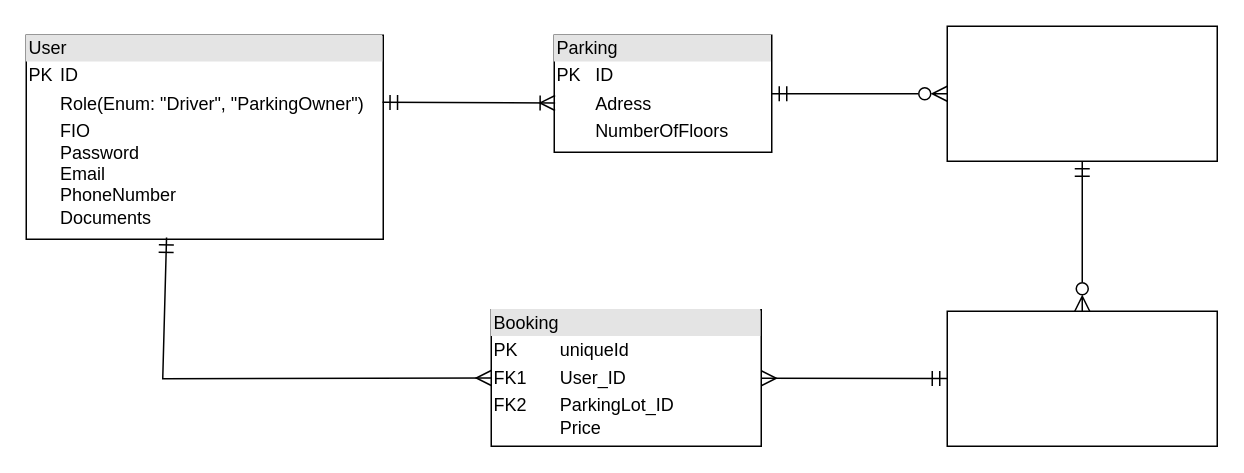
This 1244x473 diagram has some shape labels left out. The centre of each missing label's shape, as x and y in pixels:
Floor PK ID FK Parking_ID NumberOfParkingLots Level: point 1081,93
ParkingLot PK ID FK Floor_ID IsForDisabled IsFree: point 1081,378
